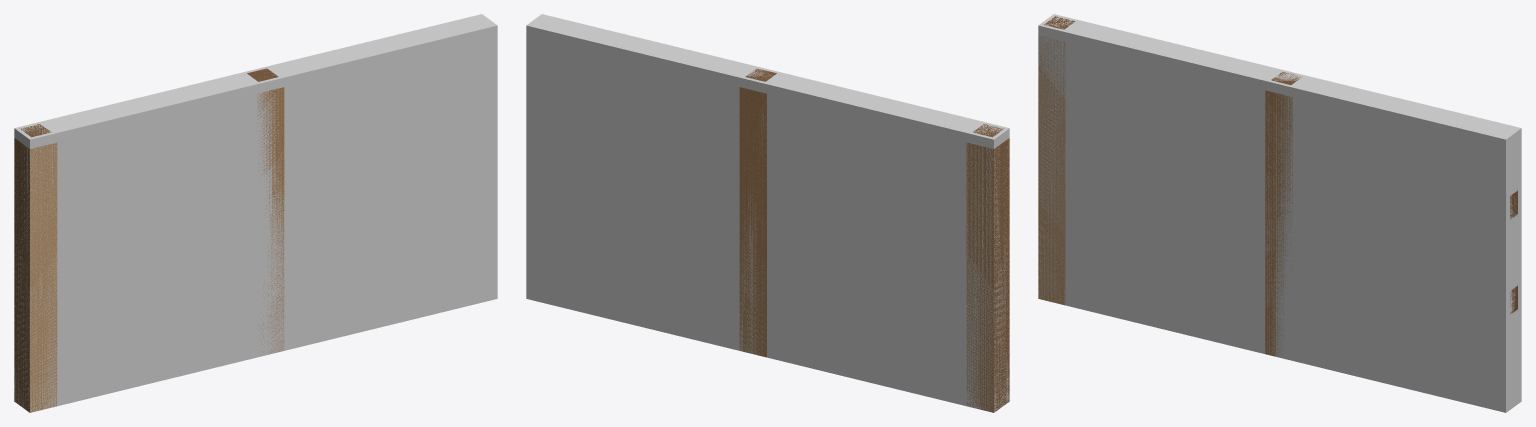
Rendered from FMS_Fence_Rail.fbx.
3 views of the same model, side by side, from view 1: azimuth 30°, elevation 25°; view 2: azimuth 150°, elevation 25°; view 3: azimuth 330°, elevation 25° (orthographic).
Visible parts, largest first — view 1: FMS_Fence_Rail_Col, FMS_Fence_Rail_LOD0; view 2: FMS_Fence_Rail_Col, FMS_Fence_Rail_LOD0; view 3: FMS_Fence_Rail_Col, FMS_Fence_Rail_LOD0.
Part boxes in pixels (<box>): FMS_Fence_Rail_Col: <box>14,14,497,412</box>; FMS_Fence_Rail_LOD0: <box>14,68,284,412</box>; FMS_Fence_Rail_Col: <box>526,14,1009,412</box>; FMS_Fence_Rail_LOD0: <box>739,69,1009,412</box>; FMS_Fence_Rail_Col: <box>1038,14,1521,412</box>; FMS_Fence_Rail_LOD0: <box>1038,16,1517,356</box>.
Size of what is drawn, in the model's own units: 2.06 by 1.15 by 0.12.
1 material, 1 textured.
